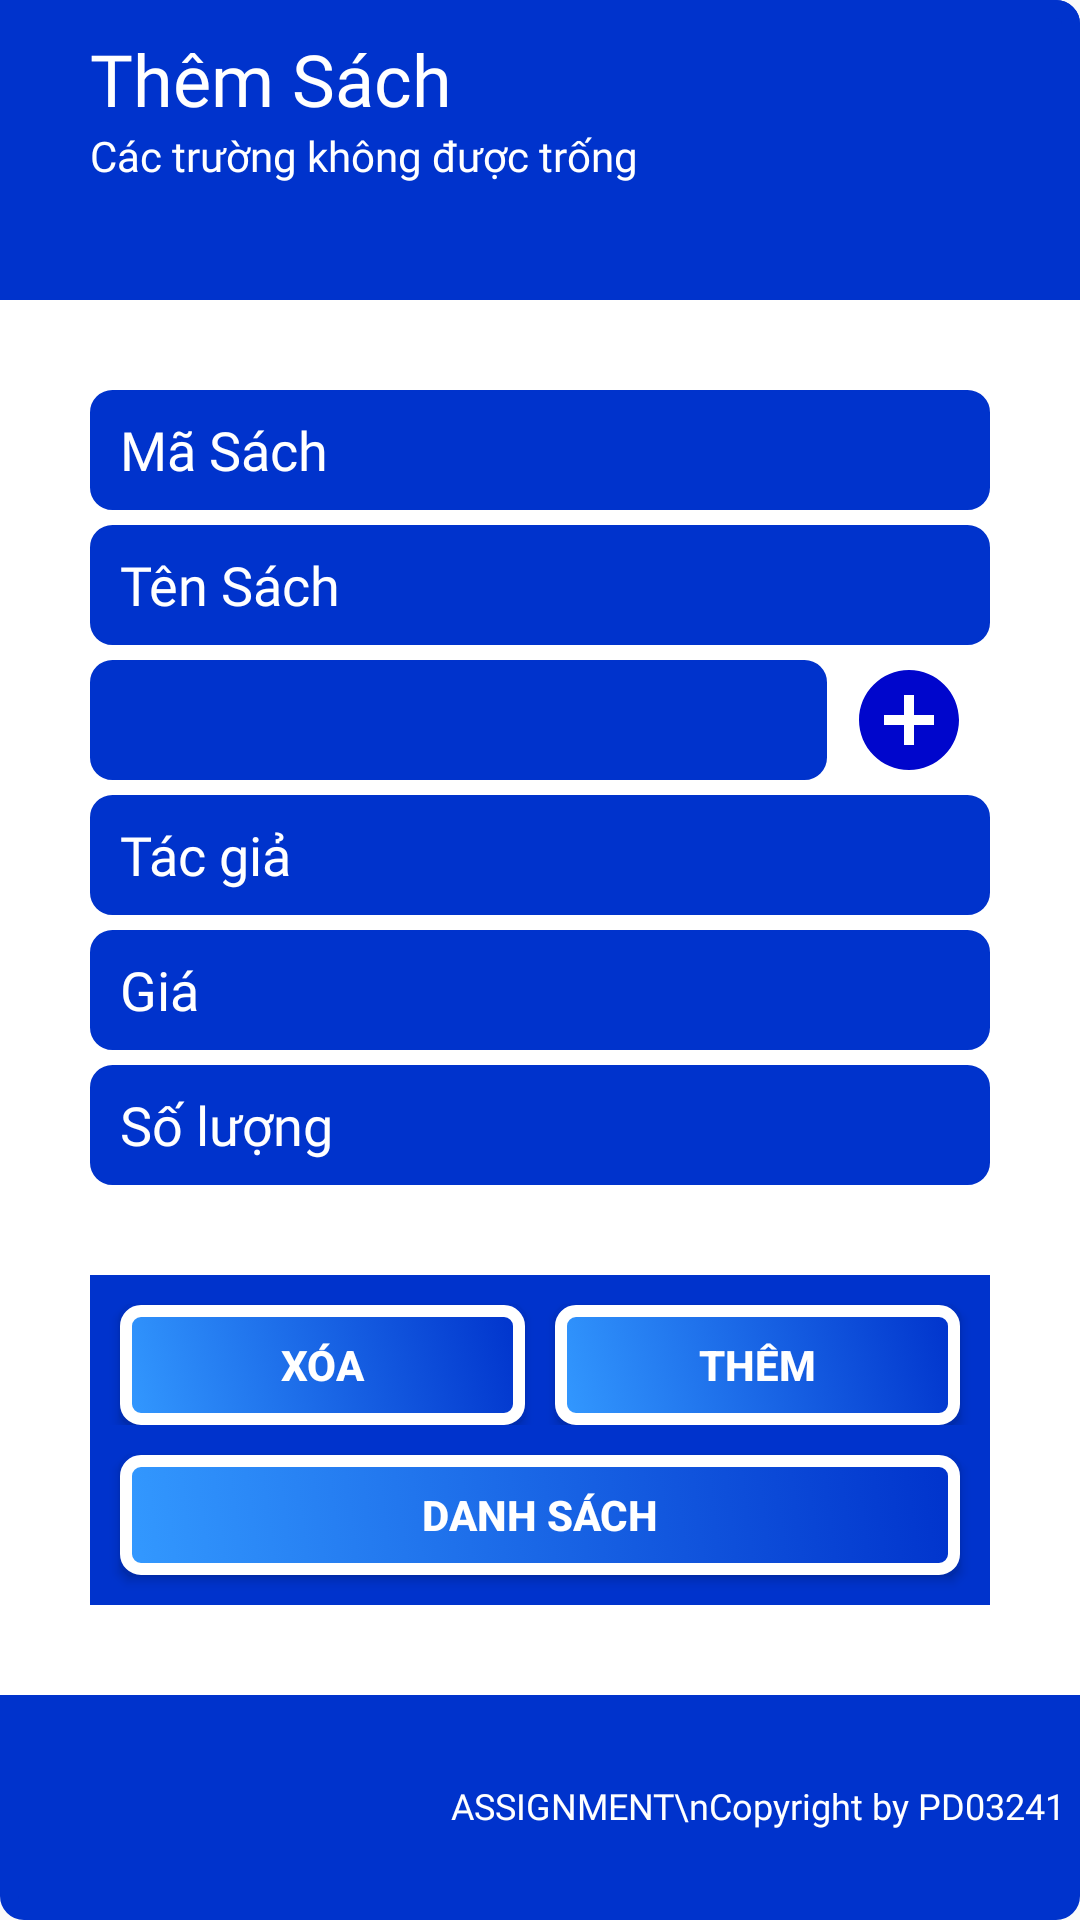

Named icons in this screenshot (1080 x 1920) and their centers, point (x, y):
add circle: point (909, 720)
